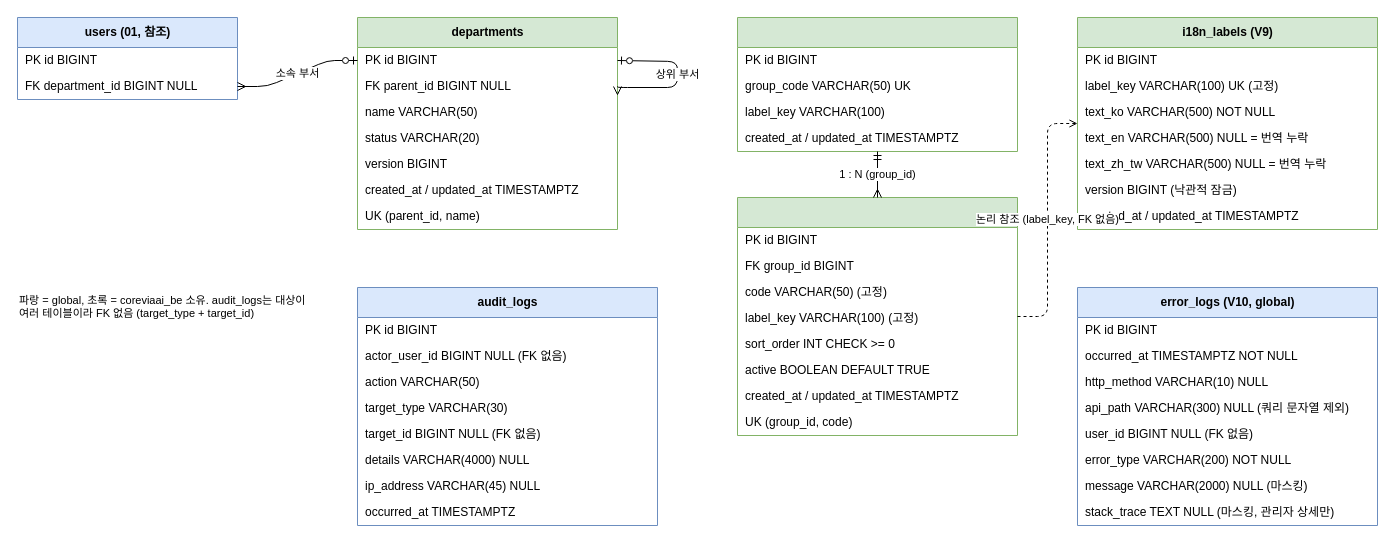
Some shapes in this 1395 by 543 pixel diagram are drawn without their labels. Each missing label, with the box of its shape:
code_groups (V8): (736, 16, 1018, 152)
codes (V8): (736, 196, 1018, 436)
